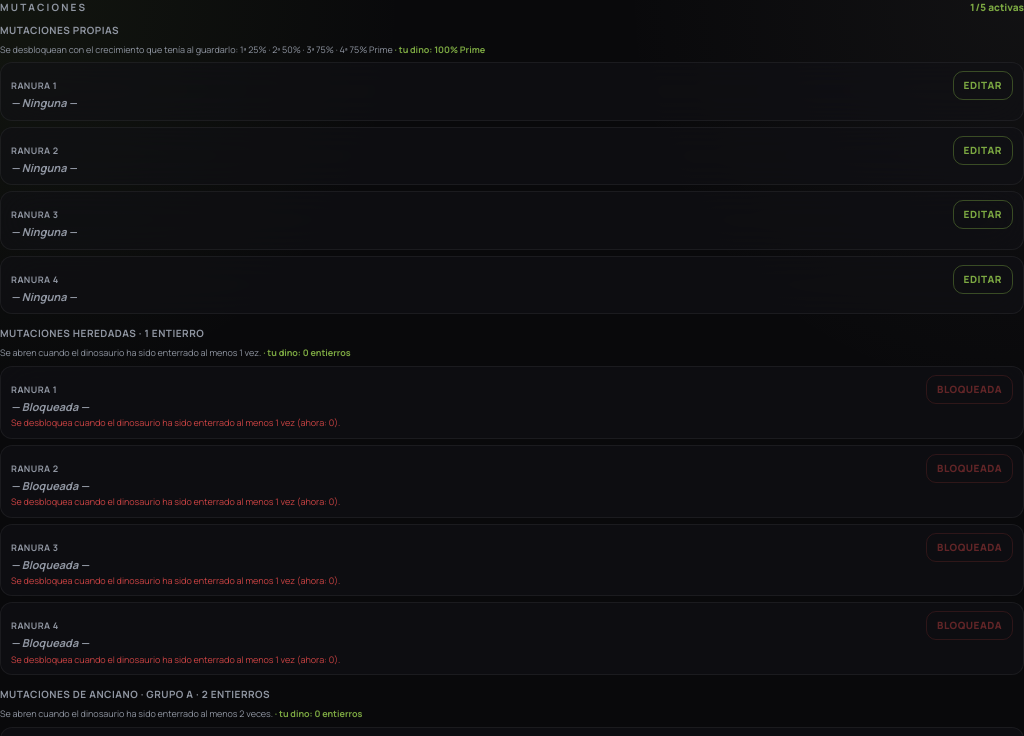
Test: the count chip and the duplicate list stay honest at sixteen › a mutation sitting in a closed inherited slot still counts as in use
Click the 1st button "Editar": (983, 86) top-left (953, 71), bottom-right (1013, 100)
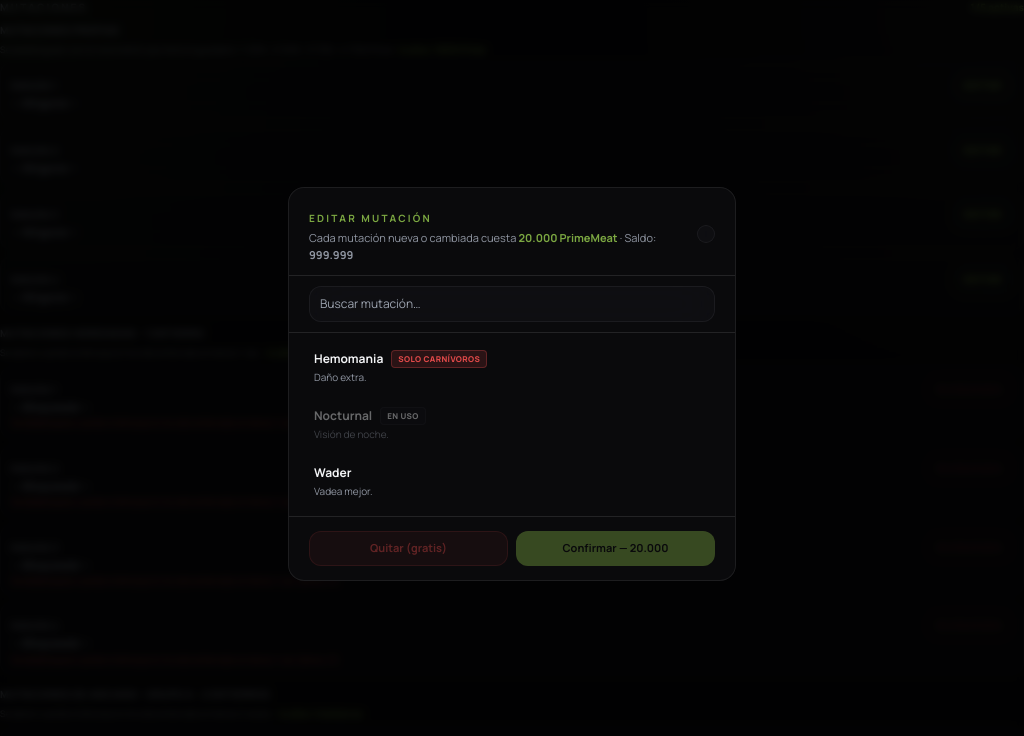
Now the button with test id "mutation-option-nocturnal" is disabled, box top-left (301, 398), bottom-right (723, 451)
Now the button with test id "mutation-option-nocturnal" shows "En uso", box top-left (301, 398), bottom-right (723, 451)
Now the button with test id "mutation-option-wader" is enabled, box top-left (301, 455), bottom-right (723, 508)
